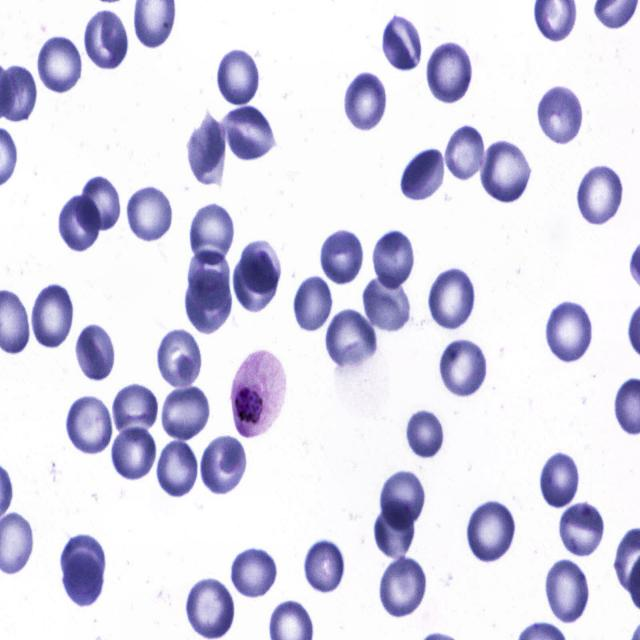red blood cell: (183, 575, 239, 638), (323, 308, 378, 371), (544, 298, 596, 364), (426, 265, 478, 331), (185, 108, 228, 187), (30, 280, 77, 352), (425, 38, 475, 105), (221, 105, 277, 164), (544, 557, 591, 626), (479, 140, 531, 202), (201, 433, 250, 498), (438, 337, 488, 400), (82, 8, 130, 73), (380, 555, 428, 619), (66, 393, 114, 457), (185, 268, 233, 332), (154, 328, 206, 387), (576, 164, 626, 225), (536, 85, 586, 146), (124, 186, 178, 241), (215, 44, 262, 106), (188, 204, 235, 265), (468, 502, 516, 561), (379, 470, 426, 530), (558, 500, 607, 557), (38, 33, 82, 96), (158, 386, 210, 439), (234, 254, 279, 314), (112, 383, 160, 439), (362, 274, 409, 331), (57, 194, 100, 256), (156, 438, 198, 501), (230, 544, 278, 599), (372, 230, 415, 291), (61, 534, 106, 592), (344, 71, 386, 133), (188, 248, 230, 310), (75, 324, 118, 384), (320, 230, 366, 286), (374, 502, 418, 560), (399, 147, 446, 201), (78, 175, 122, 232), (111, 427, 157, 481), (539, 450, 581, 509), (444, 125, 486, 184), (293, 277, 336, 334), (304, 541, 348, 593), (382, 15, 422, 70), (63, 551, 103, 606), (241, 240, 281, 294), (406, 409, 446, 460)
trophozoite: (230, 345, 287, 438)
